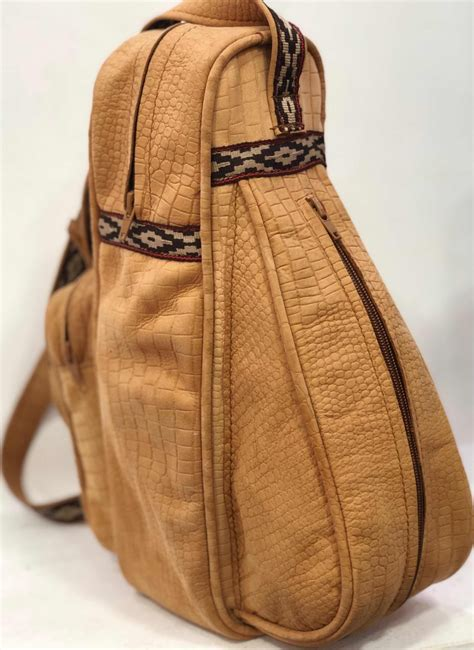cuero: (46, 2, 474, 646)
